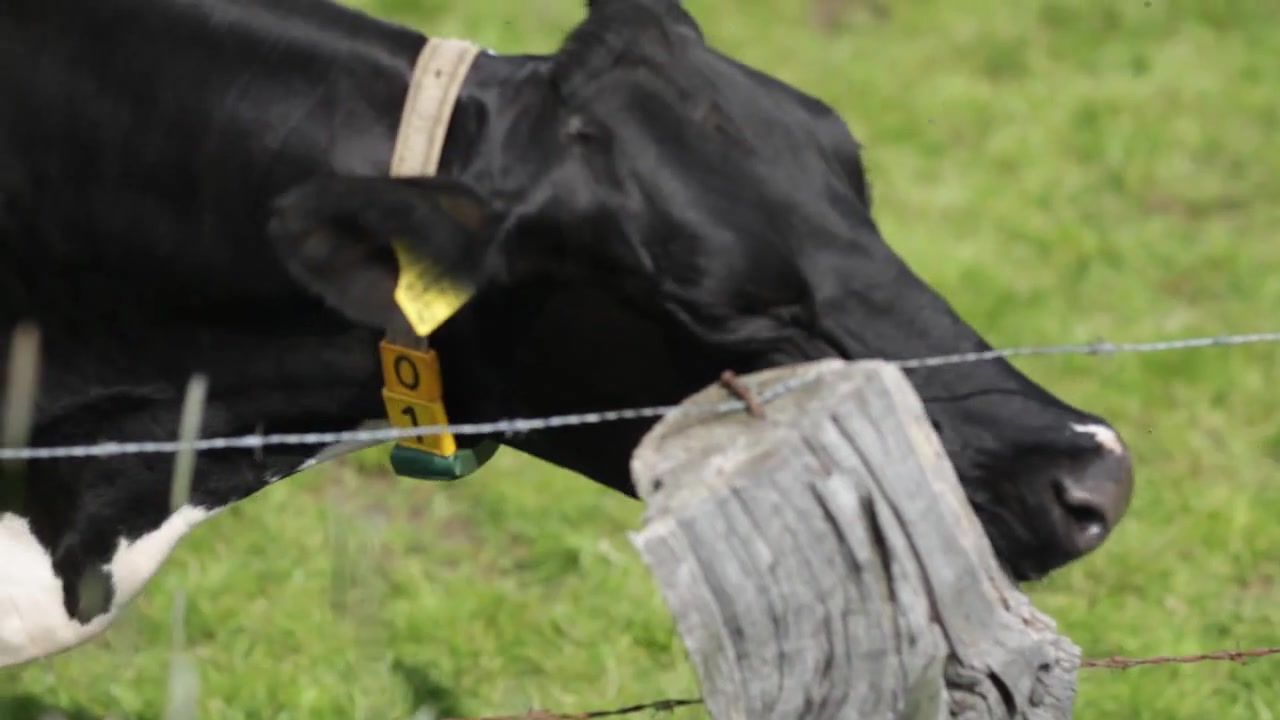cow: (1, 1, 1142, 673)
